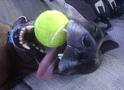tennis ball: (34, 9, 74, 48)
